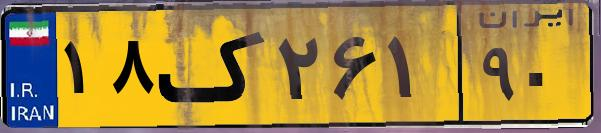0: (525, 38, 570, 115)
1: (385, 28, 445, 110), (57, 26, 110, 100)
2: (270, 28, 330, 110)
6: (330, 28, 385, 110)
8: (110, 28, 158, 98)
9: (475, 38, 525, 113)
ک: (158, 12, 270, 120)
